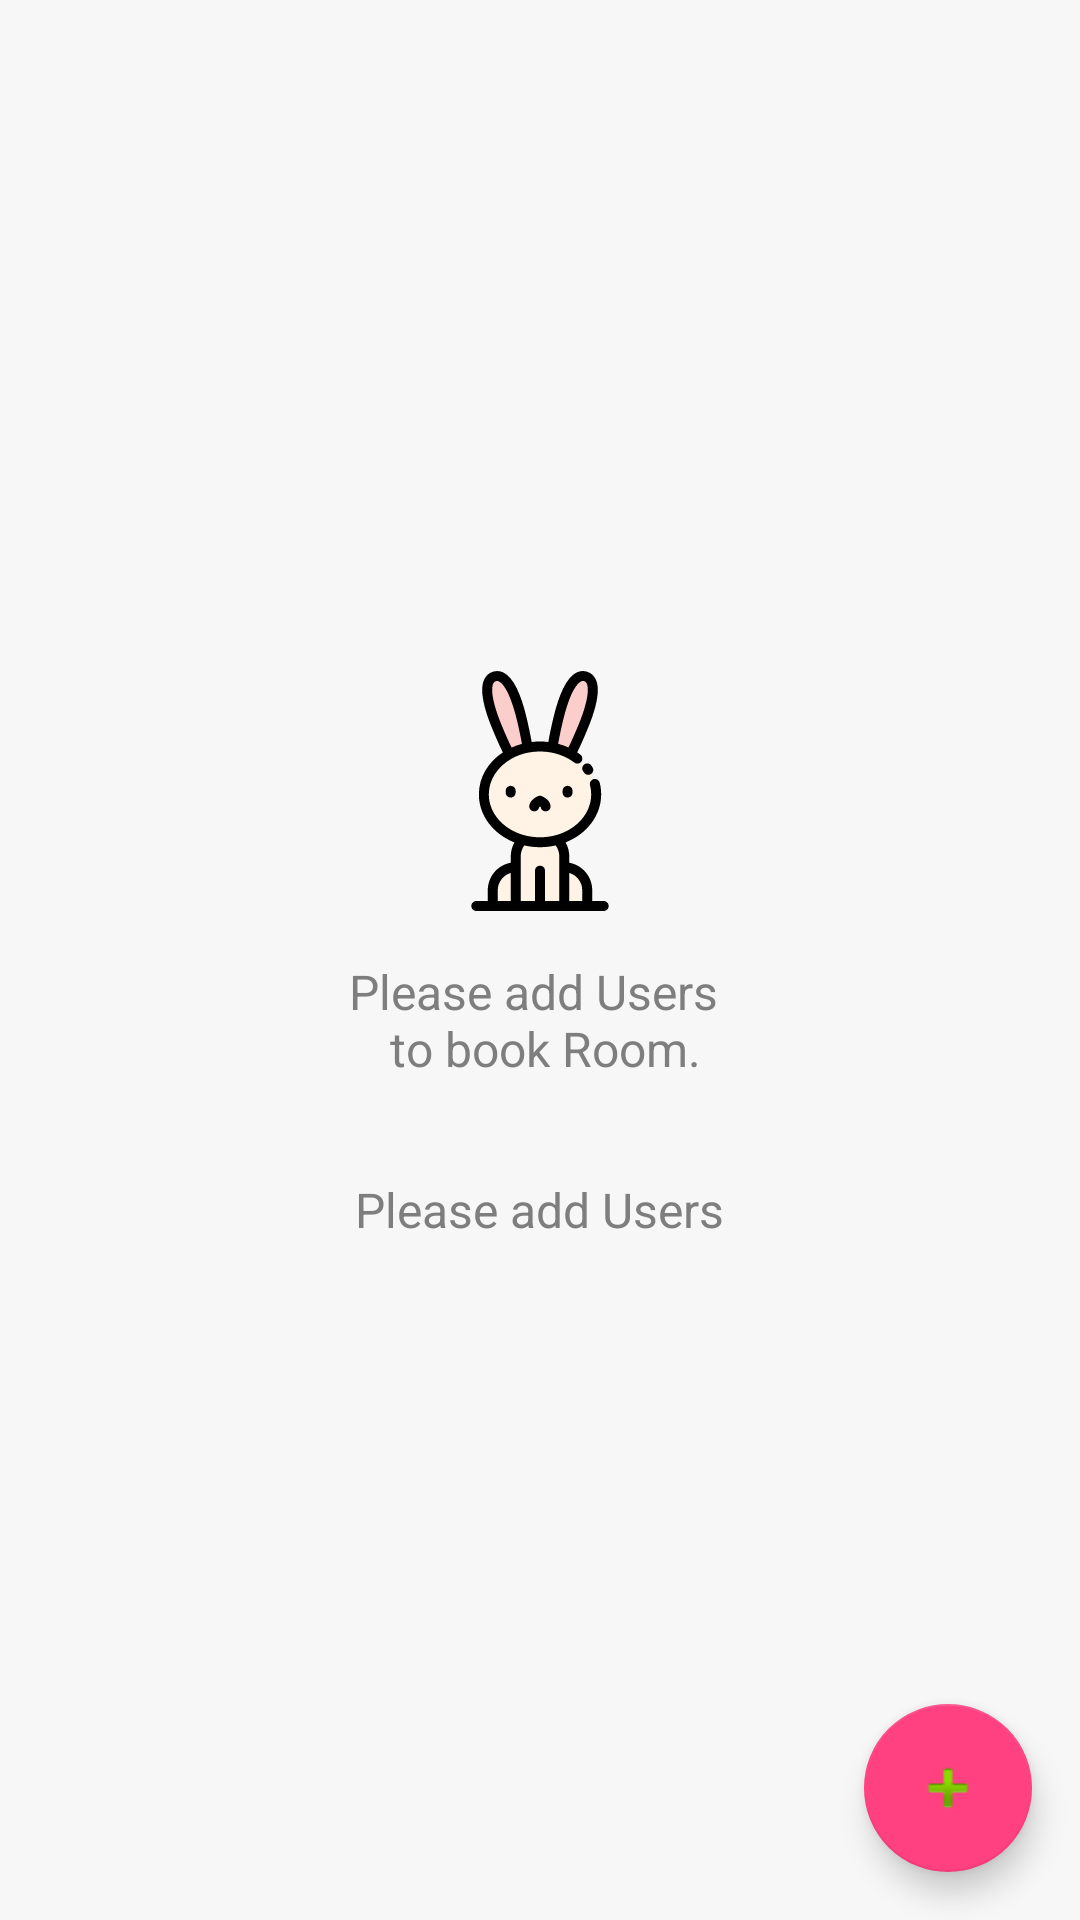

Icon bounding boxes for this 1080px×1920px phone screenshot, format (x1, y1, x2, y2):
add: (864, 1704, 1032, 1872)
rabbit: (471, 671, 609, 911)
